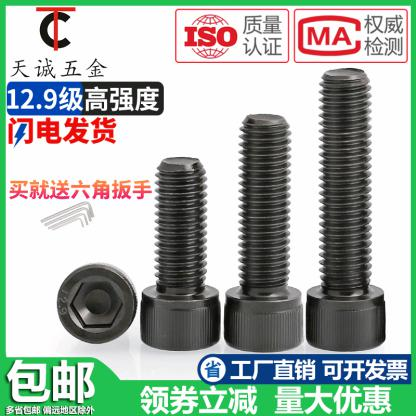FOD: (302, 67, 388, 352), (222, 112, 306, 355), (139, 152, 221, 350), (54, 260, 137, 344)
